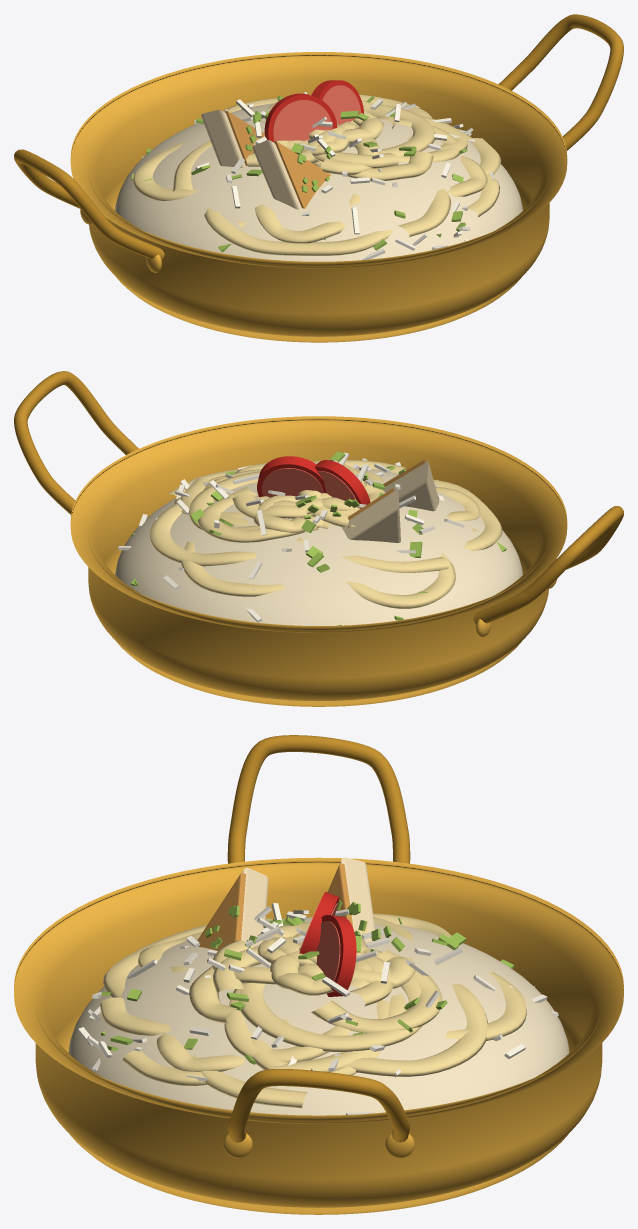
File: dish.glb
3 views of the same model, one above another, from view 1: azimuth 30°, elevation 25°; view 2: azimuth 150°, elevation 25°; view 3: azimuth 270°, elevation 25° (orthographic). The views are drawn at different scales.
Parts seen in each view (by area): view 1: pan, sauceBed, handleR, handleL, noodle14, tomatoFlesh1, toastFrontBody, noodle13, toastBackBody, toastFrontCrust, noodle21, noodle18 (+15 smaller); view 2: pan, sauceBed, handleR, handleL, noodle19, toastBackBody, noodle24, noodle18, noodle22, noodle11, toastFrontBody, tomatoFlesh2 (+9 smaller); view 3: pan, sauceBed, handleL, handleR, noodle6, noodle19, noodle24, noodle1, toastFrontCrust, noodle2, noodle26, noodle11 (+18 smaller).
Boxes of the visible parts, bbox=[...] form: pan: bbox=[70, 52, 567, 342]; sauceBed: bbox=[115, 103, 522, 261]; handleR: bbox=[498, 14, 623, 150]; handleL: bbox=[14, 149, 164, 259]; noodle14: bbox=[204, 207, 392, 255]; tomatoFlesh1: bbox=[273, 100, 332, 141]; toastFrontBody: bbox=[252, 140, 301, 209]; noodle13: bbox=[254, 193, 360, 243]; toastBackBody: bbox=[201, 109, 245, 167]; toastFrontCrust: bbox=[273, 141, 330, 208]; noodle21: bbox=[246, 151, 433, 181]; noodle18: bbox=[132, 141, 198, 200]; pan: bbox=[70, 416, 567, 706]; sauceBed: bbox=[115, 466, 522, 625]; handleR: bbox=[14, 371, 138, 514]; handleL: bbox=[473, 506, 623, 623]; noodle19: bbox=[150, 482, 303, 566]; toastBackBody: bbox=[341, 488, 400, 542]; noodle24: bbox=[198, 487, 330, 542]; noodle18: bbox=[347, 553, 455, 608]; noodle22: bbox=[181, 478, 448, 572]; noodle11: bbox=[181, 541, 285, 596]; toastFrontBody: bbox=[383, 461, 439, 511]; tomatoFlesh2: bbox=[262, 468, 323, 497]; pan: bbox=[14, 857, 623, 1214]; sauceBed: bbox=[68, 917, 569, 1115]; handleL: bbox=[227, 735, 410, 863]; handleR: bbox=[227, 1069, 410, 1142]; noodle6: bbox=[239, 951, 422, 1051]; noodle19: bbox=[282, 957, 487, 1076]; noodle24: bbox=[311, 948, 442, 1033]; noodle1: bbox=[224, 989, 350, 1062]; toastFrontCrust: bbox=[197, 872, 245, 950]; noodle2: bbox=[270, 936, 333, 995]; noodle26: bbox=[157, 1033, 245, 1071]; noodle11: bbox=[445, 972, 526, 1040].
Bounding box in the file's own units: 0.2999 × 0.0858 × 0.226.
